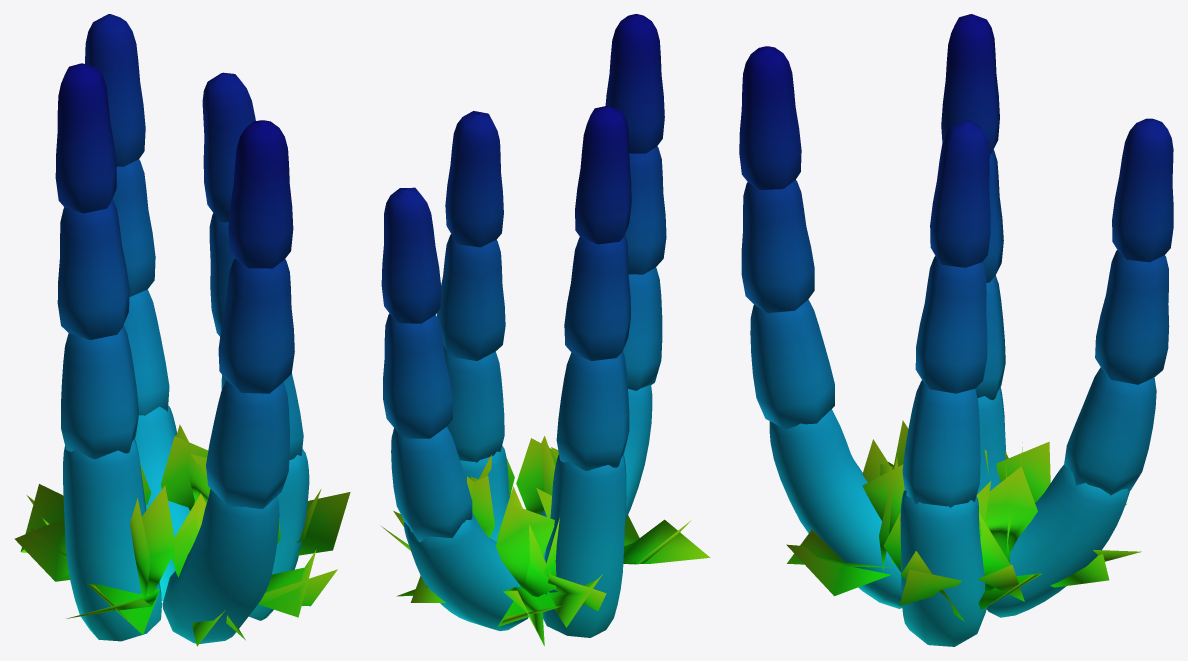
The model's file is Piko1.fbx.
3 views of the same model, side by side, from view 1: azimuth 30°, elevation 25°; view 2: azimuth 150°, elevation 25°; view 3: azimuth 270°, elevation 25° (orthographic). The views are drawn at different scales.
Visible parts, largest first — view 1: Piko1_LOD0; view 2: Piko1_LOD0; view 3: Piko1_LOD0.
Boxes of the visible parts, bbox=[...] form: Piko1_LOD0: bbox=[14, 14, 350, 646]; Piko1_LOD0: bbox=[381, 14, 710, 645]; Piko1_LOD0: bbox=[739, 14, 1173, 646].
Size of what is drawn, in the model's own units: 80.2 by 147 by 104.
